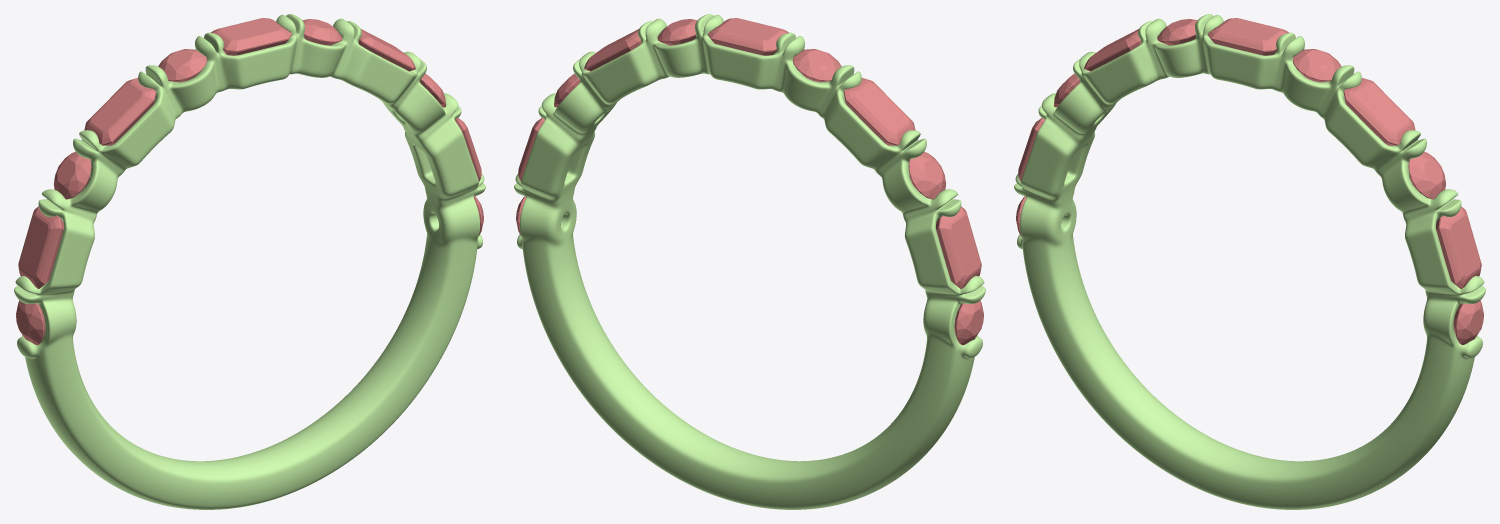
The model's file is BE2D721_RENDER.glb.
3 renders of one model, left to right at view 1: azimuth 30°, elevation 25°; view 2: azimuth 150°, elevation 25°; view 3: azimuth 330°, elevation 25°, orthographic.
Parts seen in each view (by area): view 1: Metal03, Diamond_Emerald_Gem_BD.001, Diamond_Emerald_Gem_BD.002, Diamond_Emerald_Gem_BD, Diamond_Round_Gem_BD.003, Diamond_Round_Gem_BD.002, Diamond_Round_Gem_BD.004, Diamond_Emerald_Gem_BD.004, Diamond_Round_Gem_BD.001; view 2: Metal03, Diamond_Emerald_Gem_BD.001, Diamond_Emerald_Gem_BD.002, Diamond_Emerald_Gem_BD, Diamond_Round_Gem_BD.003, Diamond_Round_Gem_BD.002, Diamond_Round_Gem_BD.004, Diamond_Emerald_Gem_BD.004, Diamond_Round_Gem_BD.001; view 3: Metal03, Diamond_Emerald_Gem_BD.004, Diamond_Emerald_Gem_BD.003, Diamond_Emerald_Gem_BD, Diamond_Round_Gem_BD.005, Diamond_Round_Gem_BD.001, Diamond_Round_Gem_BD, Diamond_Emerald_Gem_BD.001, Diamond_Round_Gem_BD.002.
Part boxes in pixels (left/top/right/bottom): Metal03: left=14, top=14, right=485, bottom=509; Diamond_Emerald_Gem_BD.001: left=84, top=78, right=156, bottom=145; Diamond_Emerald_Gem_BD.002: left=18, top=206, right=63, bottom=288; Diamond_Emerald_Gem_BD: left=211, top=18, right=292, bottom=55; Diamond_Round_Gem_BD.003: left=53, top=152, right=91, bottom=199; Diamond_Round_Gem_BD.002: left=158, top=49, right=206, bottom=82; Diamond_Round_Gem_BD.004: left=16, top=300, right=45, bottom=345; Diamond_Emerald_Gem_BD.004: left=358, top=29, right=415, bottom=71; Diamond_Round_Gem_BD.001: left=302, top=19, right=342, bottom=45; Metal03: left=514, top=14, right=985, bottom=509; Diamond_Emerald_Gem_BD.001: left=843, top=78, right=915, bottom=145; Diamond_Emerald_Gem_BD.002: left=936, top=206, right=981, bottom=288; Diamond_Emerald_Gem_BD: left=707, top=18, right=788, bottom=55; Diamond_Round_Gem_BD.003: left=908, top=152, right=945, bottom=199; Diamond_Round_Gem_BD.002: left=793, top=49, right=841, bottom=82; Diamond_Round_Gem_BD.004: left=954, top=300, right=983, bottom=345; Diamond_Emerald_Gem_BD.004: left=584, top=29, right=641, bottom=71; Diamond_Round_Gem_BD.001: left=657, top=19, right=697, bottom=45; Metal03: left=1014, top=14, right=1485, bottom=509; Diamond_Emerald_Gem_BD.004: left=1343, top=78, right=1415, bottom=145; Diamond_Emerald_Gem_BD.003: left=1436, top=206, right=1481, bottom=288; Diamond_Emerald_Gem_BD: left=1207, top=18, right=1288, bottom=55; Diamond_Round_Gem_BD.005: left=1408, top=152, right=1445, bottom=199; Diamond_Round_Gem_BD.001: left=1293, top=49, right=1341, bottom=82; Diamond_Round_Gem_BD: left=1453, top=300, right=1483, bottom=344; Diamond_Emerald_Gem_BD.001: left=1084, top=29, right=1141, bottom=71; Diamond_Round_Gem_BD.002: left=1157, top=19, right=1197, bottom=45.
Size of the model in its own units: 20.82 by 20.39 by 2.39.
